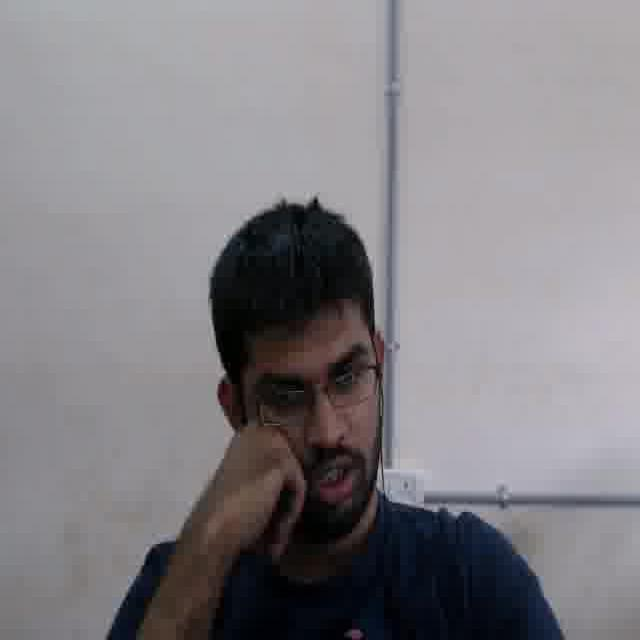Engaged: (237, 307, 378, 529)
